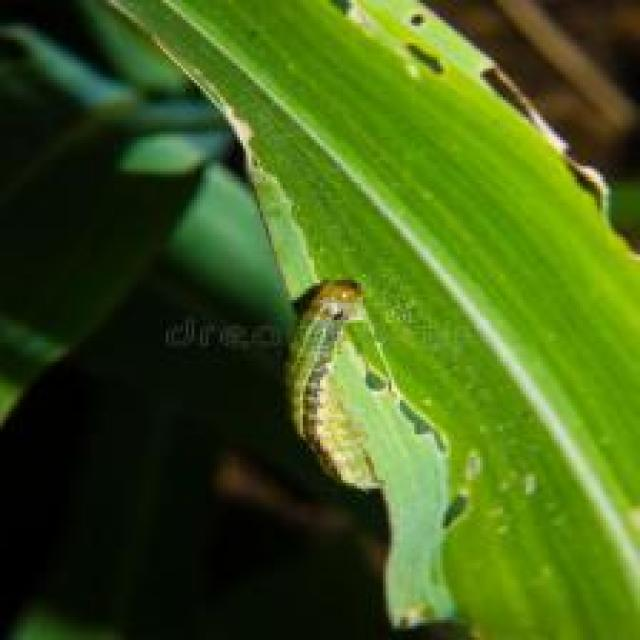Plaga: (276, 253, 393, 516)
